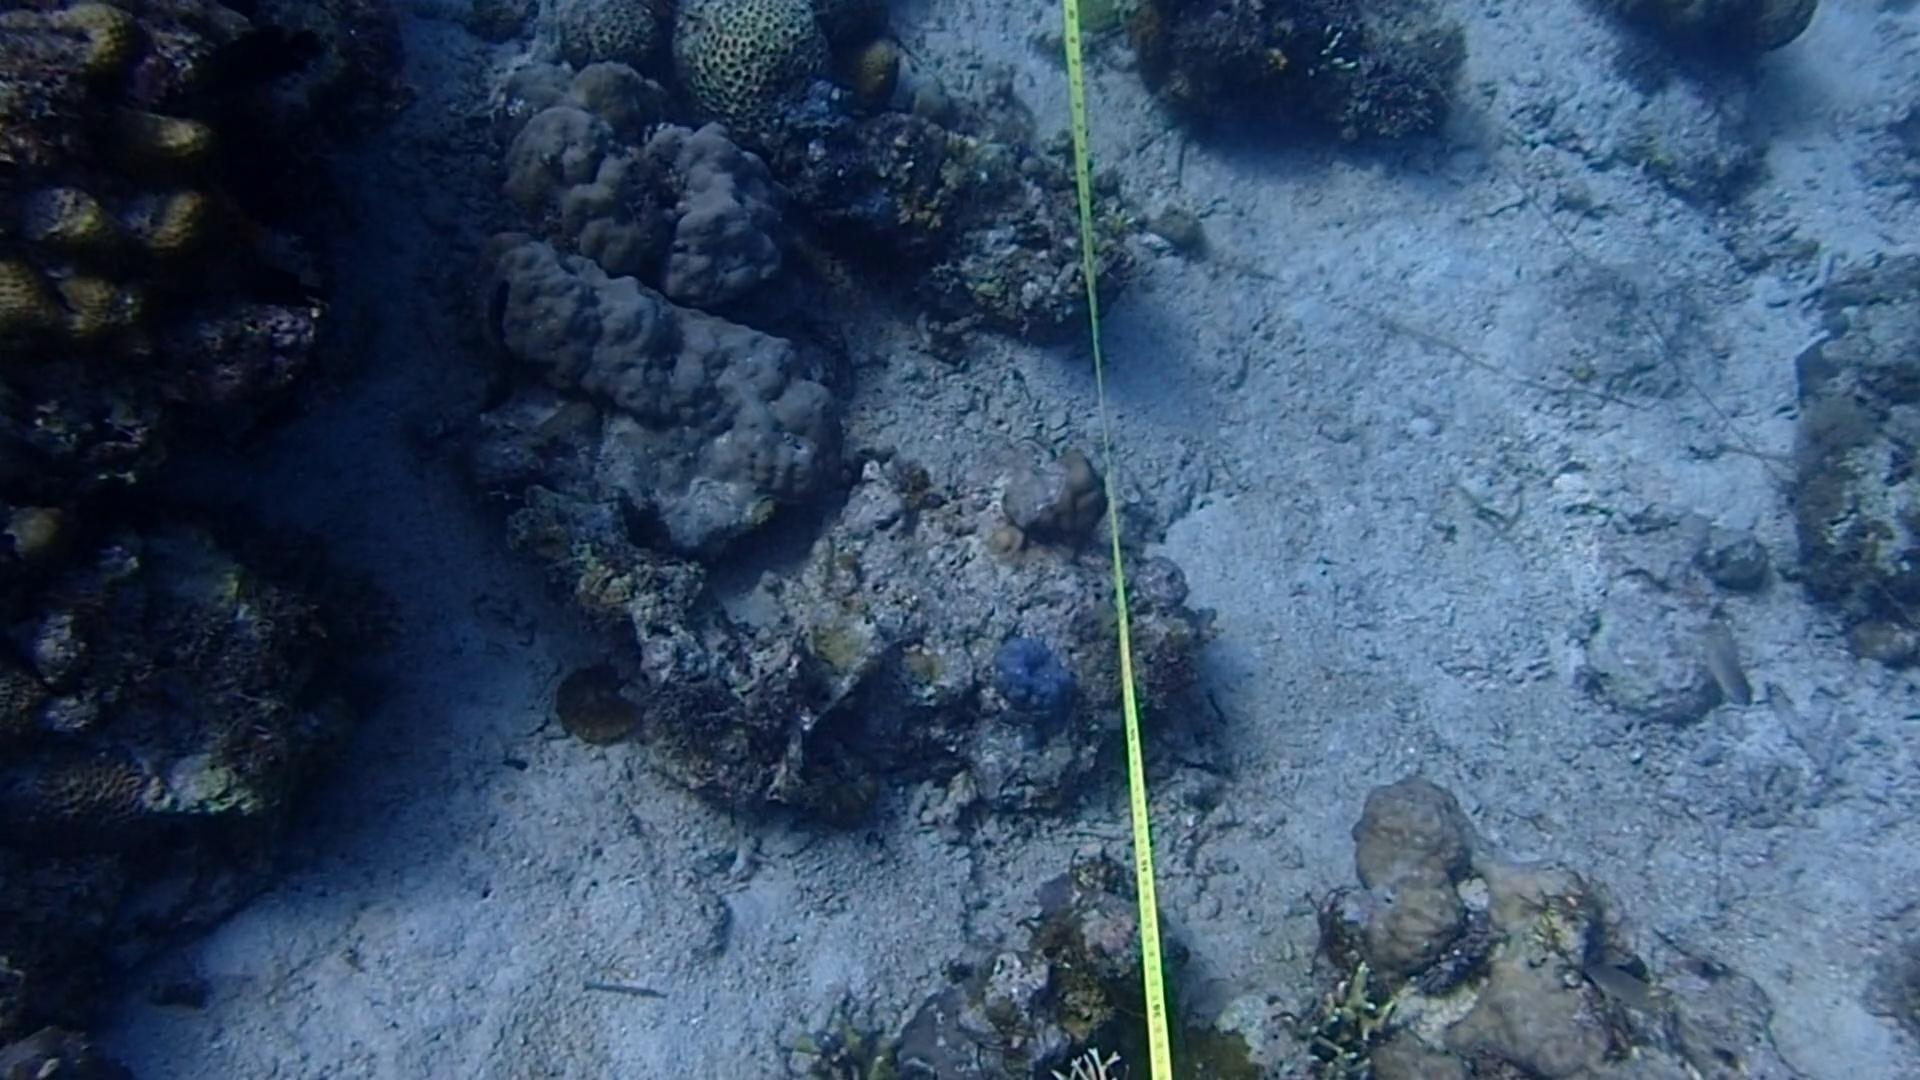Dark Fish: (142, 25, 332, 120), (183, 237, 303, 336), (476, 278, 560, 394), (170, 803, 253, 919)
Light Fish: (1693, 628, 1760, 721)
